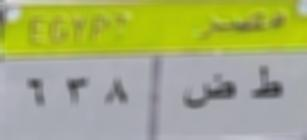3: (63, 74, 94, 112)
6: (18, 72, 50, 114)
8: (105, 74, 129, 113)
Taa: (247, 65, 285, 102)
daad: (180, 69, 238, 112)
